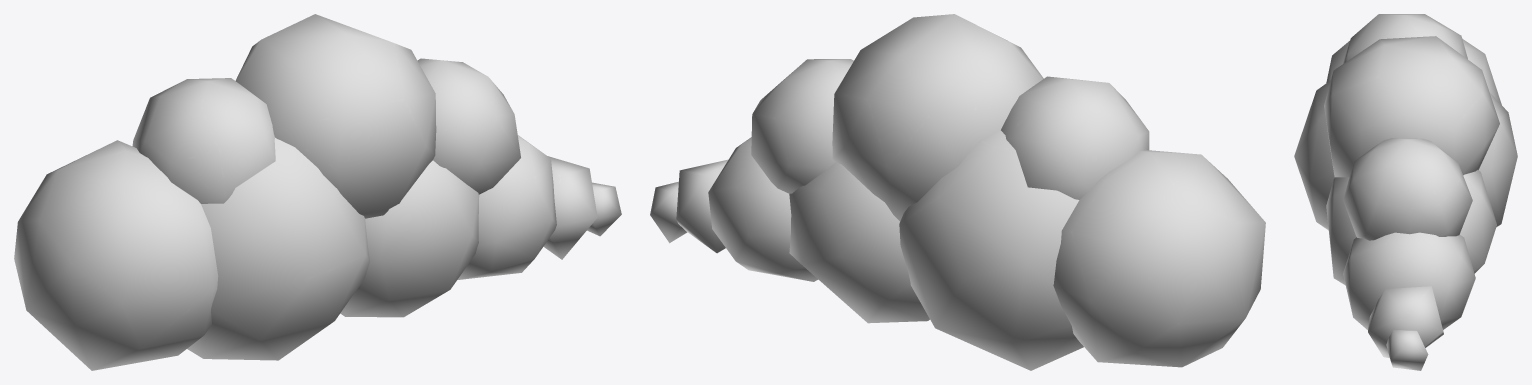
The model's file is cloud1.obj.
The picture shows the model from 3 angles, left to right: view 1: azimuth 30°, elevation 25°; view 2: azimuth 150°, elevation 25°; view 3: azimuth 270°, elevation 25°; orthographic projection. The views are drawn at different scales.
Visible parts, largest first — view 1: Clouds_01_Untitled.003; view 2: Clouds_01_Untitled.003; view 3: Clouds_01_Untitled.003.
Part boxes in pixels (x1=…): Clouds_01_Untitled.003: x1=14, y1=14, x2=621, y2=370; Clouds_01_Untitled.003: x1=650, y1=14, x2=1265, y2=370; Clouds_01_Untitled.003: x1=1294, y1=14, x2=1517, y2=370.
Bounding box in the file's own units: 2.13 × 1.06 × 0.8623.
